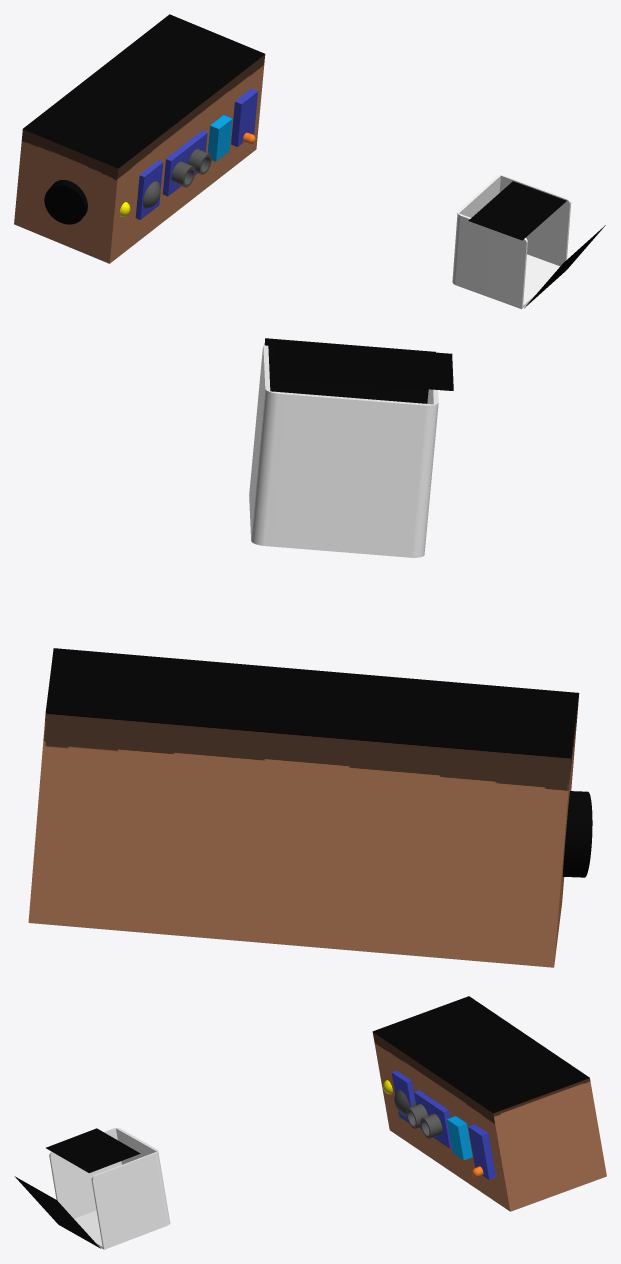
Rendered from prototype.glb.
3 renders of one model, top to bottom at view 1: azimuth 30°, elevation 25°; view 2: azimuth 150°, elevation 25°; view 3: azimuth 270°, elevation 25°, orthographic. The views are drawn at different scales.
Parts seen in each view (by area): view 1: mesh_id35, node_id106, mesh_id109, mesh_id46, mesh_id74, mesh_id62, mesh_id72, mesh_id56, mesh_id108, mesh_id64, mesh_id70; view 2: mesh_id35, node_id106, mesh_id109, mesh_id108, mesh_id46; view 3: mesh_id35, node_id106, mesh_id109, mesh_id108, mesh_id74, mesh_id72, mesh_id62, mesh_id56, mesh_id70, mesh_id64.
Boxes of the visible parts, bbox=[...] form: mesh_id35: bbox=[14, 14, 265, 263]; node_id106: bbox=[452, 175, 571, 309]; mesh_id109: bbox=[468, 181, 566, 240]; mesh_id46: bbox=[44, 180, 87, 224]; mesh_id74: bbox=[231, 88, 258, 146]; mesh_id62: bbox=[162, 131, 207, 196]; mesh_id72: bbox=[207, 115, 232, 161]; mesh_id56: bbox=[135, 160, 163, 219]; mesh_id108: bbox=[524, 225, 605, 308]; mesh_id64: bbox=[171, 161, 195, 187]; mesh_id70: bbox=[188, 149, 211, 174]; mesh_id35: bbox=[28, 648, 579, 967]; node_id106: bbox=[249, 345, 438, 557]; mesh_id109: bbox=[277, 341, 453, 390]; mesh_id108: bbox=[264, 338, 435, 403]; mesh_id46: bbox=[562, 791, 592, 877]; mesh_id35: bbox=[372, 996, 606, 1211]; node_id106: bbox=[49, 1128, 170, 1249]; mesh_id109: bbox=[46, 1128, 140, 1173]; mesh_id108: bbox=[14, 1176, 100, 1248]; mesh_id74: bbox=[468, 1124, 496, 1180]; mesh_id72: bbox=[447, 1116, 472, 1160]; mesh_id62: bbox=[414, 1090, 451, 1148]; mesh_id56: bbox=[391, 1070, 414, 1122]; mesh_id70: bbox=[420, 1114, 442, 1138]; mesh_id64: bbox=[406, 1104, 427, 1128].
Bounding box in the file's own units: 0.4332 × 0.1495 × 0.6195.
13 materials, 13 textured.
